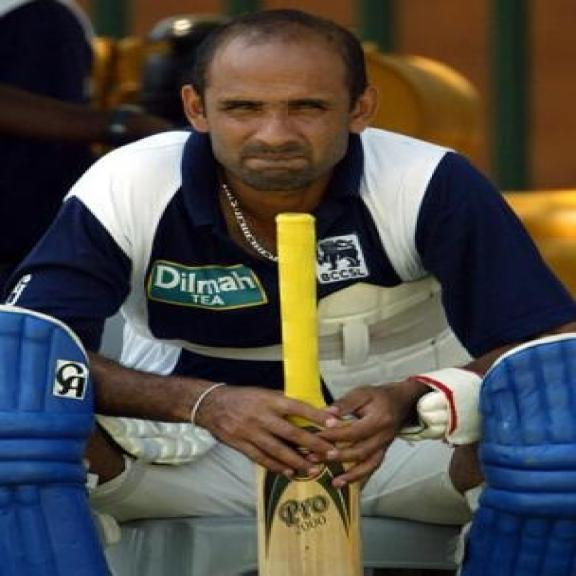face: (182, 50, 386, 198)
